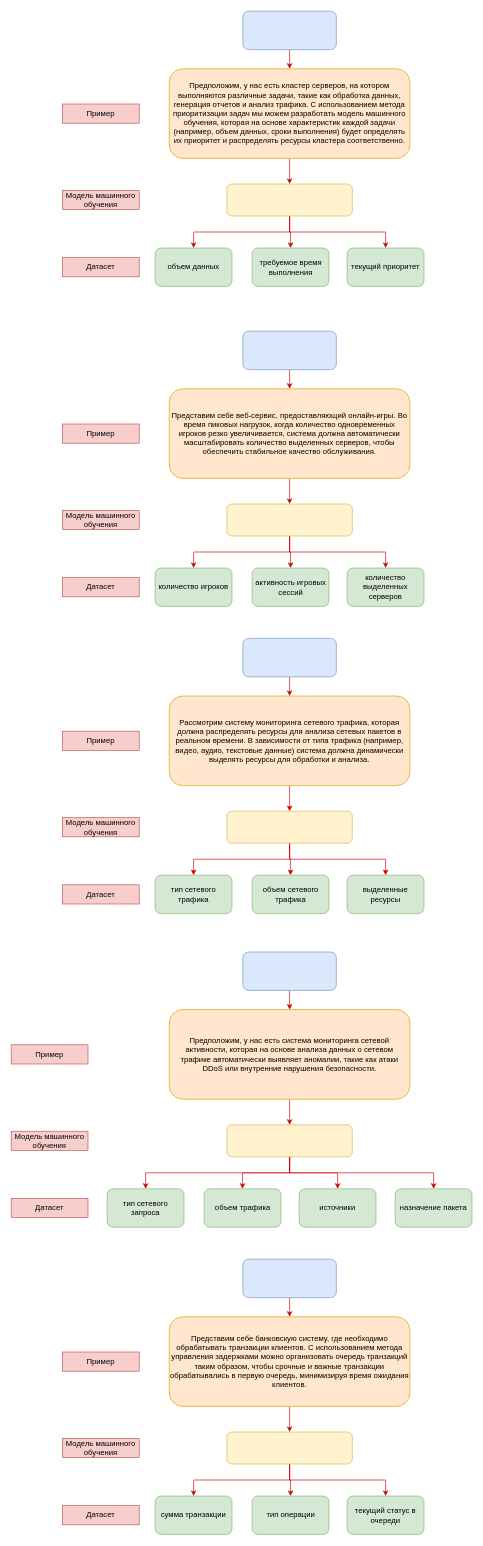
The diagram is 483 pixels wide and 1546 high, and some of its shapes have lost their labels. The centre of each missing label's shape, as x and y in pixels:
SVM (метод опорных векторов): point 289,199
Автоматическое обнаружение аномалий и реагирование: point 289,970
Градиентный бустинг (Gradient Boosting): point 289,1447
Дерево решений (Decision Trees): point 289,519
Динамическое масштабирование: point 289,350
Кластерный анализ (Clustering): point 289,1140
Нейронные сети: point 289,827
Очереди и управление задержками: point 289,1278
Приоритизация задач: point 289,30
Распределение по запросу: point 289,657
